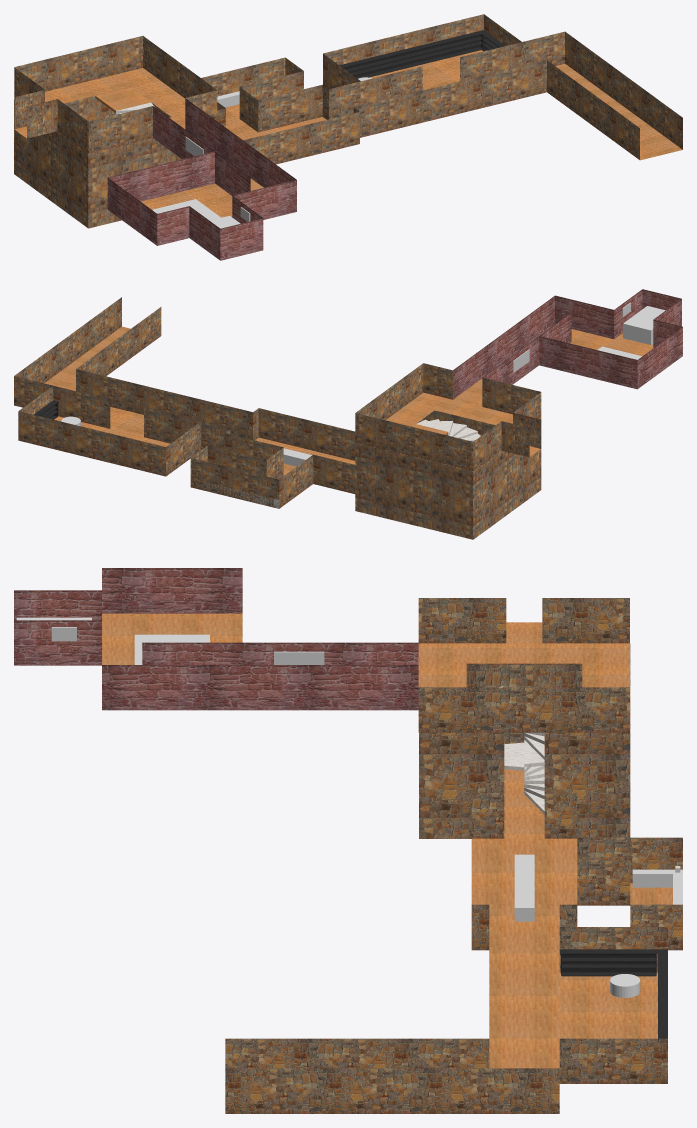
File: SM_Collection.fbx
3 views of the same model, one above another, from view 1: azimuth 30°, elevation 25°; view 2: azimuth 150°, elevation 25°; view 3: azimuth 270°, elevation 25° (orthographic). The views are drawn at different scales.
Parts seen in each view (by area): view 1: hallway_to_foyer_long_wall.001, stairway_wall_left.001, hallway_from_ground_wall_long.001, stairwell_wall_top.001, stairway_wall_bottom.001, dinning_hall_bottom_wall.001, hallway_wallright.001, hallway_from_ground_wall_short.001, bedroom_wall_top.001, stairwell_floor.001, Bookshelf.001, library_top_wall.001 (+32 smaller); view 2: stairway_wall_top.001, library_top_wall.001, hallway_to_foyer_long_wall.001, stairway_wall_left.001, stairwell_wall_top.001, hallway_wallright.001, bedroom_wall_top.001, dinning_hall_bottom_wall.001, hallway_from_ground_wall_long.001, food_storage_wall_top.001, hallway_from_ground_wall_short.001, stairwell_floor.001 (+35 smaller); view 3: hallway_from_ground_wall_long.001, hallway_wallright.001, stairwell_wall_right.001, dinnning_room_floor.001, hallway_to_foyer.001, hallway_from_ground_wall_short.001, stairwell_wall_left.001, stairway_wall_topright.001, stairway_wall_bottomright.001, stairwell_floor.001, bedroom_wall_left.001, library_floor.001 (+22 smaller).
Boxes of the visible parts, x1=… form: hallway_to_foyer_long_wall.001: x1=354, y1=60, x2=546, y2=137; stairway_wall_left.001: x1=14, y1=99, x2=88, y2=227; hallway_from_ground_wall_long.001: x1=565, y1=31, x2=682, y2=149; stairwell_wall_top.001: x1=14, y1=36, x2=142, y2=91; stairway_wall_bottom.001: x1=88, y1=138, x2=181, y2=228; dinning_hall_bottom_wall.001: x1=243, y1=112, x2=359, y2=164; hallway_wallright.001: x1=185, y1=98, x2=296, y2=187; hallway_from_ground_wall_short.001: x1=547, y1=60, x2=639, y2=159; bedroom_wall_top.001: x1=108, y1=151, x2=214, y2=201; stairwell_floor.001: x1=45, y1=68, x2=185, y2=128; Bookshelf.001: x1=339, y1=30, x2=487, y2=78; library_top_wall.001: x1=323, y1=14, x2=483, y2=65; stairway_wall_top.001: x1=355, y1=442, x2=473, y2=539; library_top_wall.001: x1=18, y1=411, x2=165, y2=476; hallway_to_foyer_long_wall.001: x1=76, y1=369, x2=252, y2=439; stairway_wall_left.001: x1=473, y1=449, x2=541, y2=539; stairwell_wall_top.001: x1=355, y1=413, x2=473, y2=470; hallway_wallright.001: x1=453, y1=296, x2=554, y2=399; bedroom_wall_top.001: x1=539, y1=336, x2=637, y2=389; dinning_hall_bottom_wall.001: x1=258, y1=408, x2=355, y2=460; hallway_from_ground_wall_long.001: x1=14, y1=297, x2=121, y2=383; food_storage_wall_top.001: x1=190, y1=458, x2=279, y2=508; hallway_from_ground_wall_short.001: x1=76, y1=307, x2=161, y2=376; stairwell_floor.001: x1=385, y1=392, x2=512, y2=426; hallway_from_ground_wall_long.001: x1=225, y1=1068, x2=559, y2=1113; hallway_wallright.001: x1=102, y1=665, x2=418, y2=710; stairwell_wall_right.001: x1=418, y1=687, x2=629, y2=732; dinnning_room_floor.001: x1=471, y1=838, x2=577, y2=950; hallway_to_foyer.001: x1=489, y1=950, x2=559, y2=1068; hallway_from_ground_wall_short.001: x1=225, y1=1038, x2=489, y2=1068; stairwell_wall_left.001: x1=418, y1=598, x2=629, y2=643; stairway_wall_topright.001: x1=544, y1=732, x2=630, y2=837; stairway_wall_bottomright.001: x1=419, y1=732, x2=504, y2=838; stairwell_floor.001: x1=418, y1=643, x2=629, y2=687; bedroom_wall_left.001: x1=102, y1=568, x2=242, y2=613; library_floor.001: x1=559, y1=972, x2=657, y2=1038.
Size of the model in its own units: 1855 by 341 by 1330.
